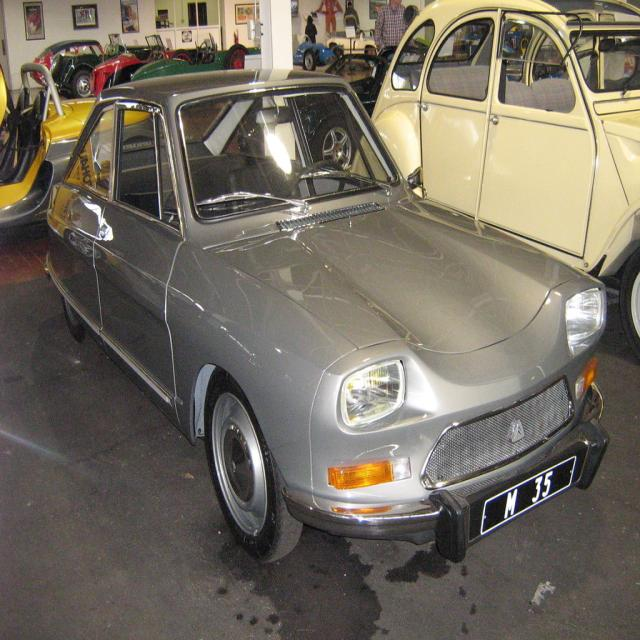car: (29, 38, 597, 569)
